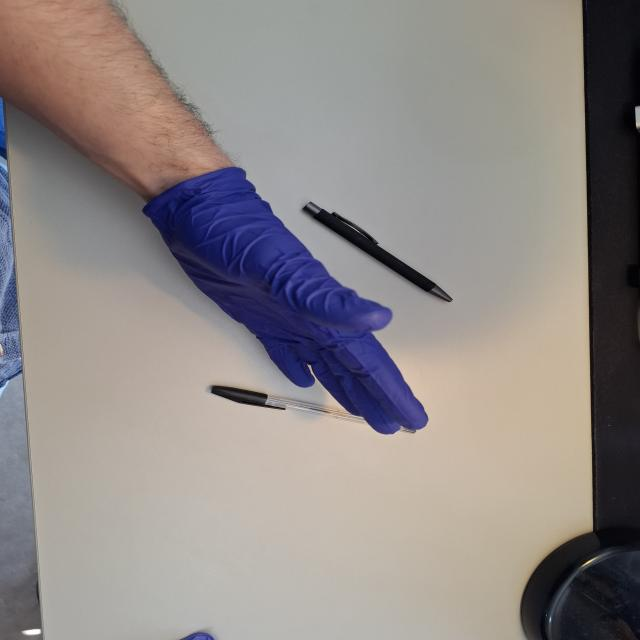glove_on: (140, 170, 432, 438)
